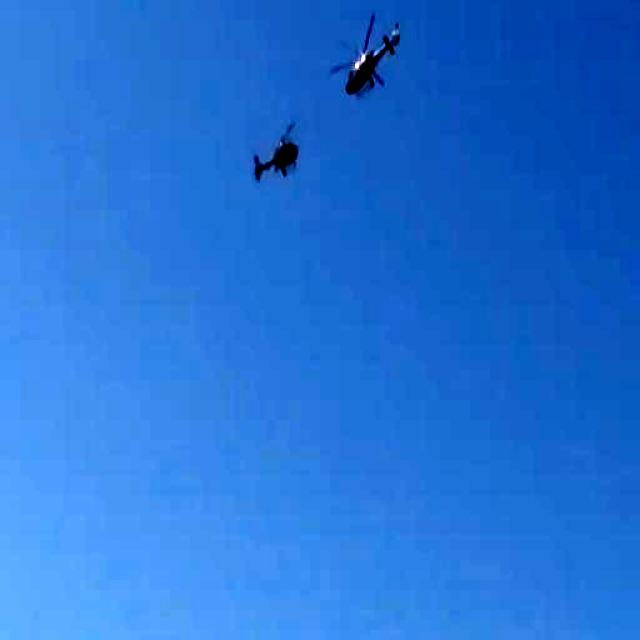drone: (335, 16, 418, 95), (250, 128, 301, 188)
